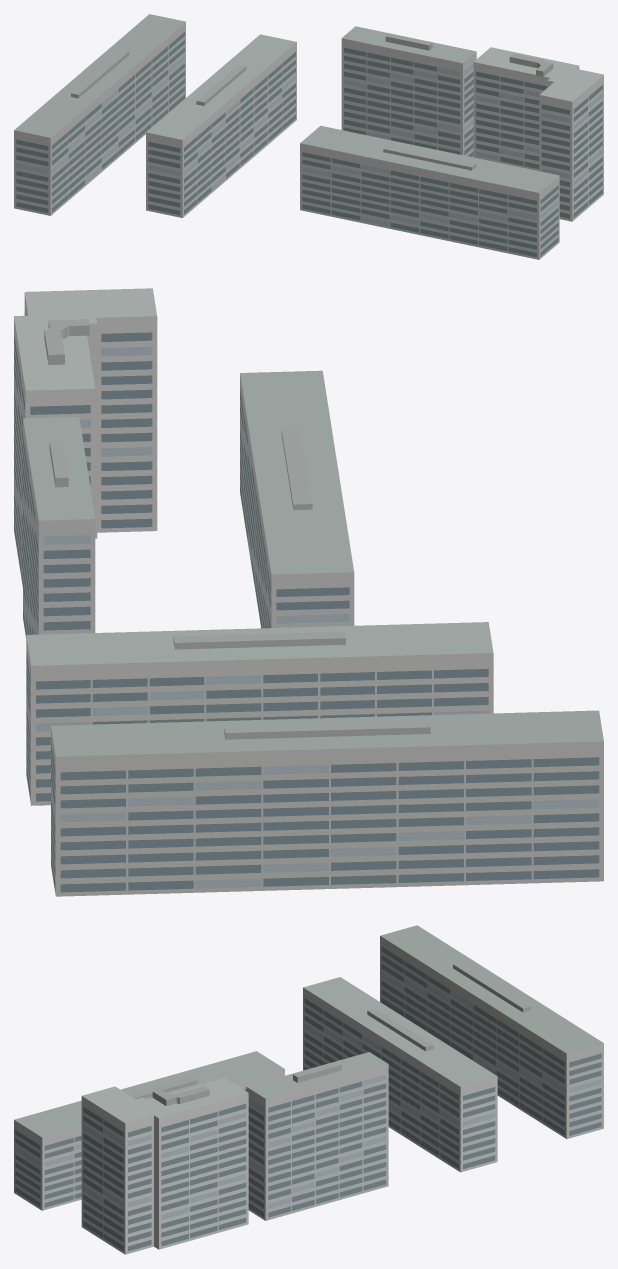
The model's file is apt-a13895502.glb.
3 renders of one model, top to bottom at view 1: azimuth 30°, elevation 25°; view 2: azimuth 150°, elevation 25°; view 3: azimuth 270°, elevation 25°, orthographic. The views are drawn at different scales.
Visible parts, largest first — view 1: apt-a13895502; view 2: apt-a13895502; view 3: apt-a13895502.
Boxes of the visible parts, x1=… form: apt-a13895502: x1=14, y1=14, x2=603, y2=259; apt-a13895502: x1=14, y1=288, x2=603, y2=896; apt-a13895502: x1=14, y1=925, x2=603, y2=1254.
Size of the model in its own units: 164 by 43 by 167.
